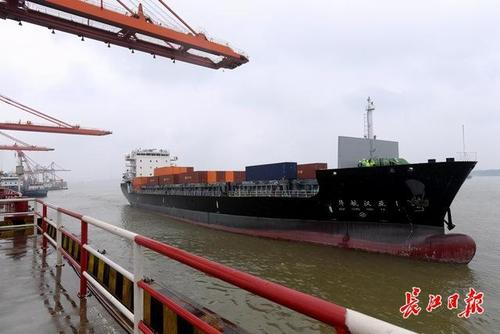Cargoship: (118, 94, 481, 268)
